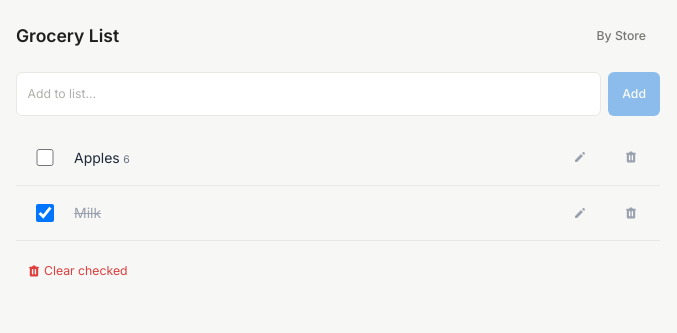
Test: GroceryListView.vue › clicking toggle switches to By Store mode (button shows "Default")
Click the button with test id "group-toggle-btn" at (621, 36), box [583,14,660,58]
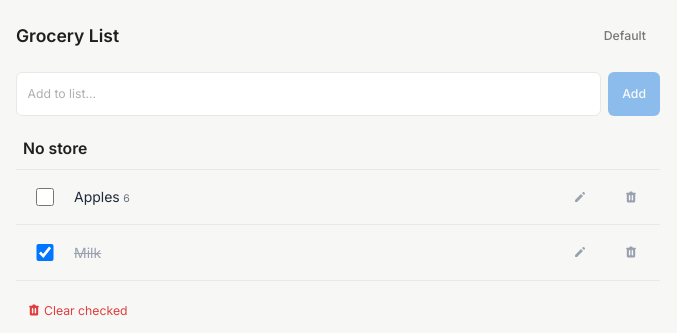
expect the button with test id "group-toggle-btn" reads "Default": met, box [590,14,660,58]
